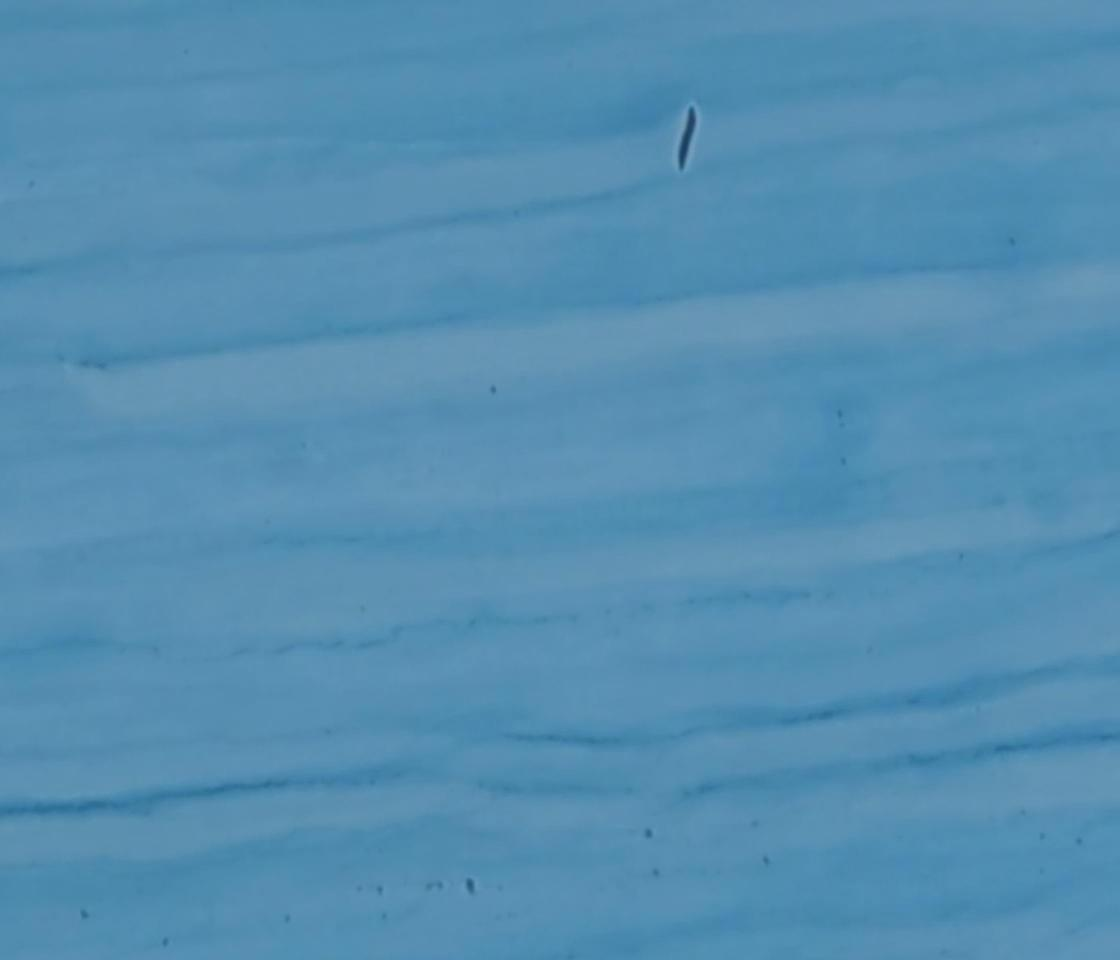scratch: (669, 98, 704, 181)
